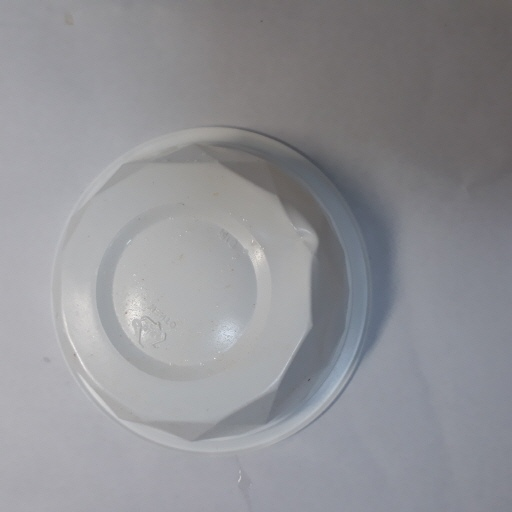Plastic_5: (57, 123, 376, 455)
